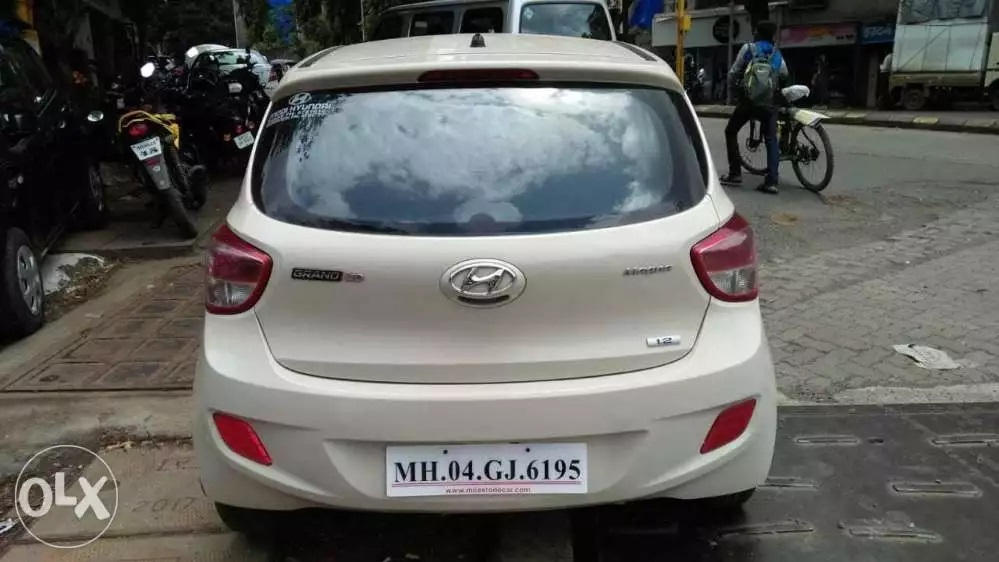licenseplate: (381, 437, 593, 499)
